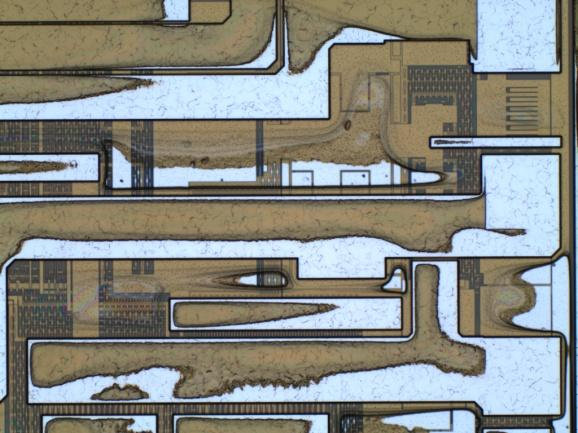COATING BAD: (1, 1, 575, 433)
